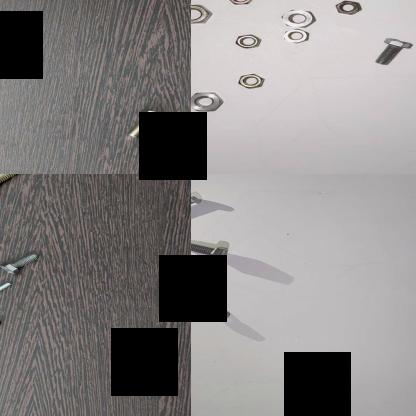Bolts: (120, 108, 170, 138), (373, 35, 416, 67), (193, 288, 230, 324), (0, 252, 43, 276), (191, 238, 232, 260), (0, 174, 26, 195), (191, 193, 206, 219), (0, 280, 15, 303), (191, 104, 200, 140)
NUTS: (278, 8, 316, 30), (191, 90, 224, 113), (191, 1, 213, 27), (230, 32, 260, 50), (236, 72, 266, 89), (279, 28, 310, 44), (332, 0, 361, 15), (224, 0, 256, 6)
